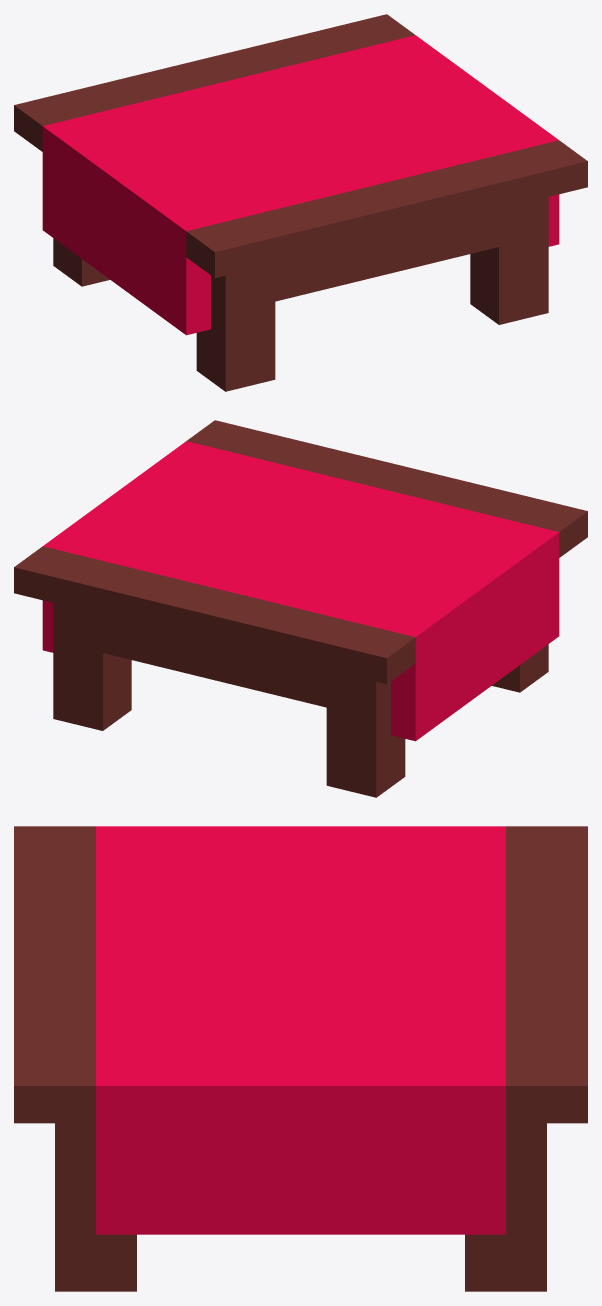
File: small_table_b_red.obj
3 renders of one model, top to bottom at view 1: azimuth 30°, elevation 25°; view 2: azimuth 150°, elevation 25°; view 3: azimuth 270°, elevation 25°, orthographic. The views are drawn at different scales.
Bounding box in the file's own units: 1.5 × 0.6 × 1.4.
1 material, 1 textured.
